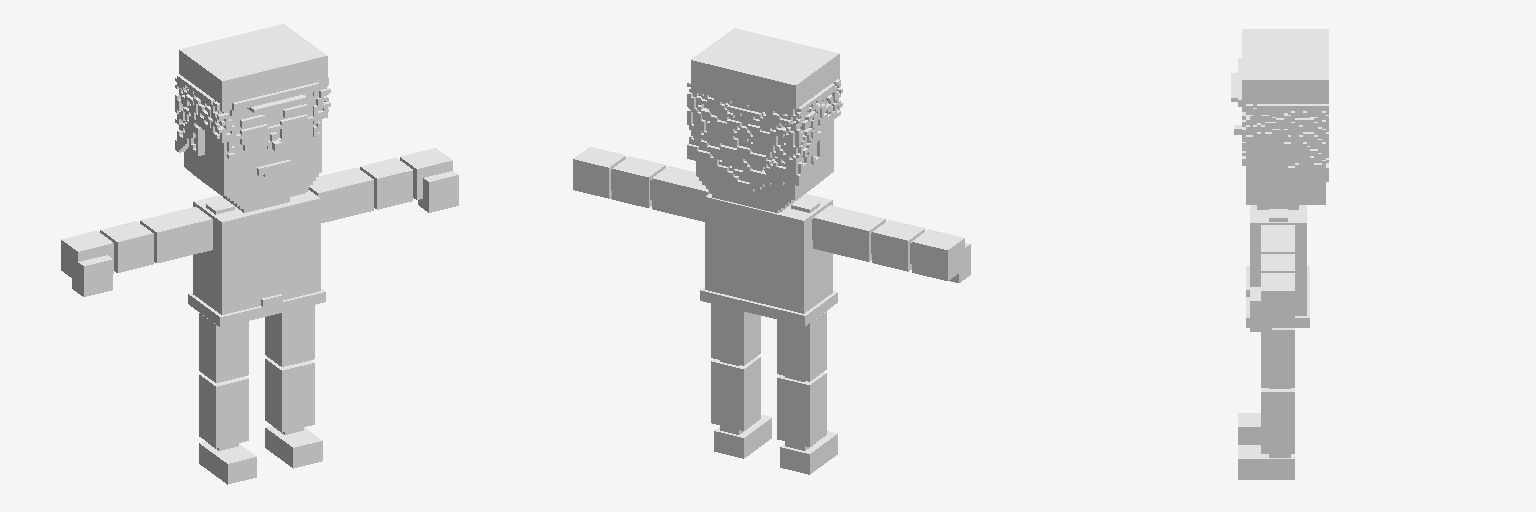
Rendered from policeman.obj.
3 views of the same model, side by side, from view 1: azimuth 30°, elevation 25°; view 2: azimuth 150°, elevation 25°; view 3: azimuth 270°, elevation 25° (orthographic).
Parts seen in each view (by area): view 1: policeman; view 2: policeman; view 3: policeman.
Boxes of the visible parts, <box> form: policeman: <box>61,24,458,484</box>; policeman: <box>573,28,970,474</box>; policeman: <box>1231,29,1328,479</box>.
Size of the model in its own units: 114 by 117 by 26.